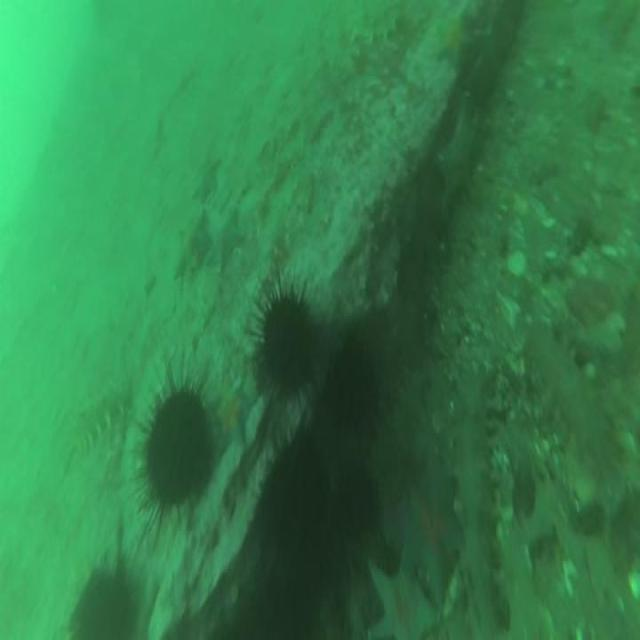echinus: (128, 357, 217, 539), (247, 272, 320, 420), (260, 446, 334, 578), (65, 551, 139, 640), (329, 335, 379, 424), (335, 456, 381, 536)
holothurian: (520, 316, 619, 477), (452, 362, 506, 640), (65, 379, 134, 465)
starfish: (388, 444, 466, 599), (433, 92, 483, 229), (214, 382, 256, 452), (174, 212, 213, 278), (432, 14, 475, 71), (210, 214, 246, 274), (189, 156, 225, 204)
